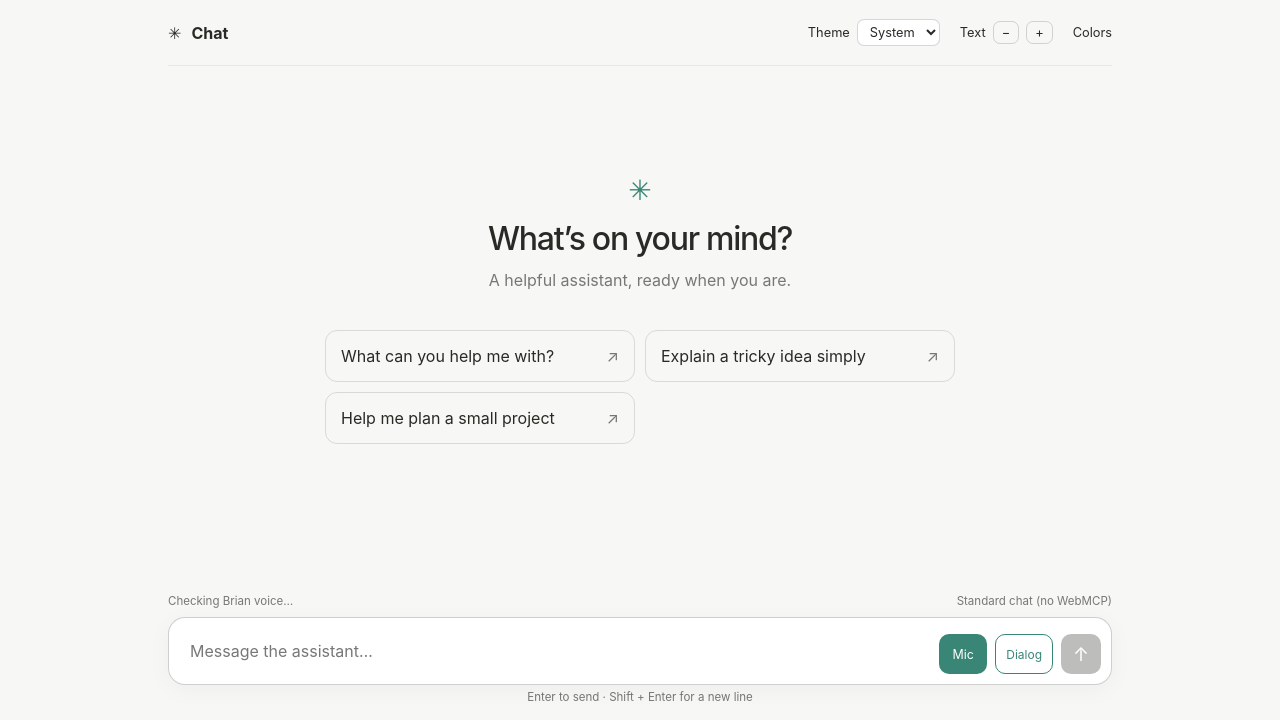
Test: Dialog integration › ends Dialog on keyboard submission and carries its visible partial answer into typed chat
In the text box labelled "Message": (559, 651) [179,628,939,674], type "Follow up"
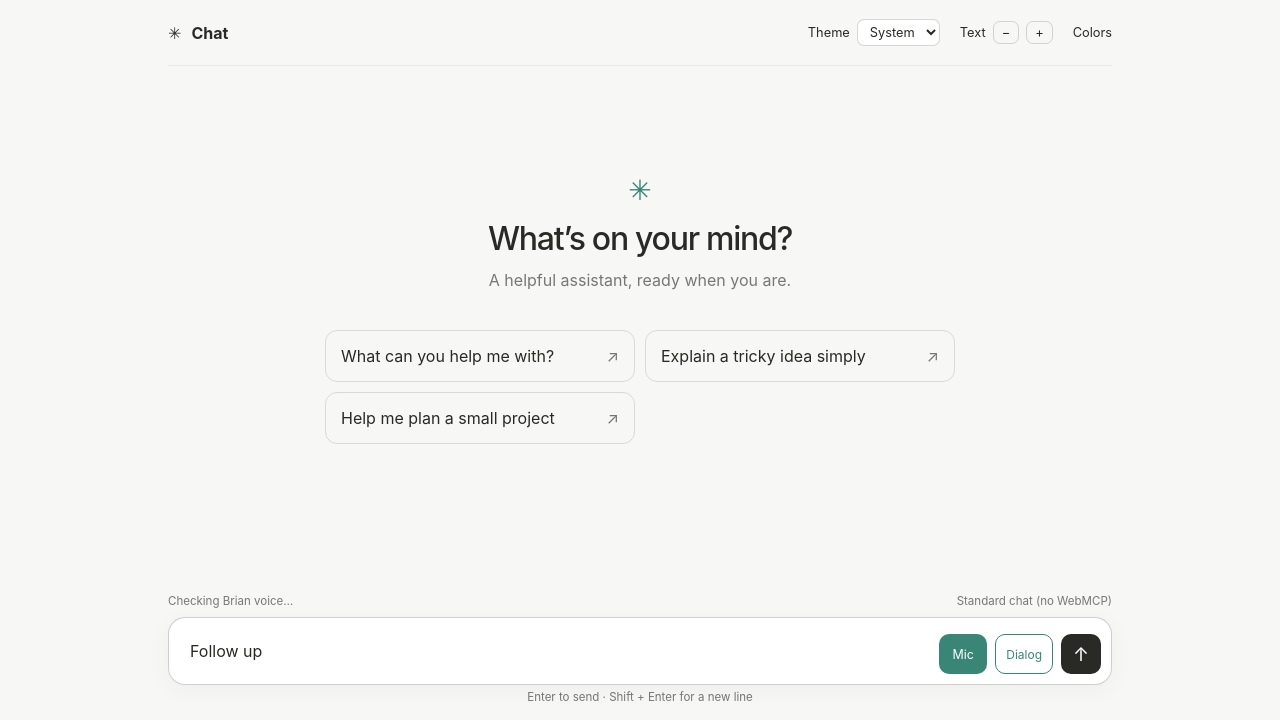
Click the button with aria-label "Start Dialog": (1024, 654) [995,634,1053,674]
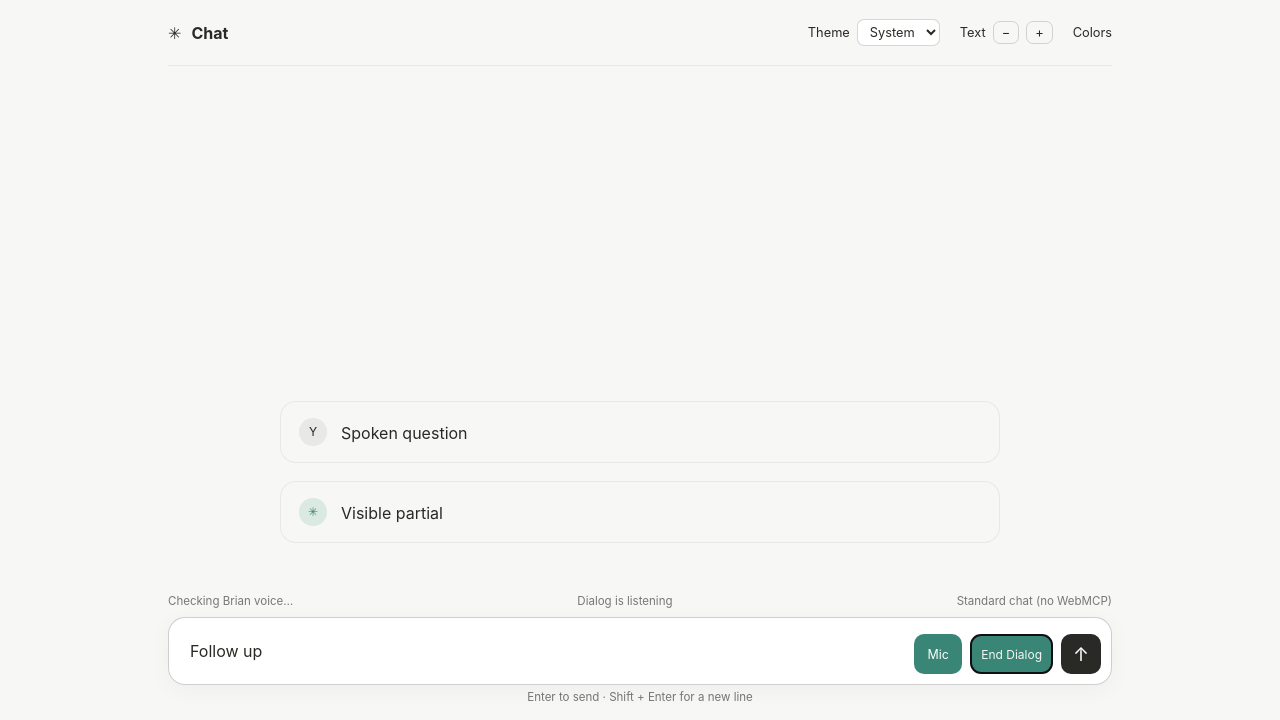
# Keyboard focus does not click the shell, so send itself must end Dialog.
Press Enter in the text box named "Message", box [179,628,914,674]
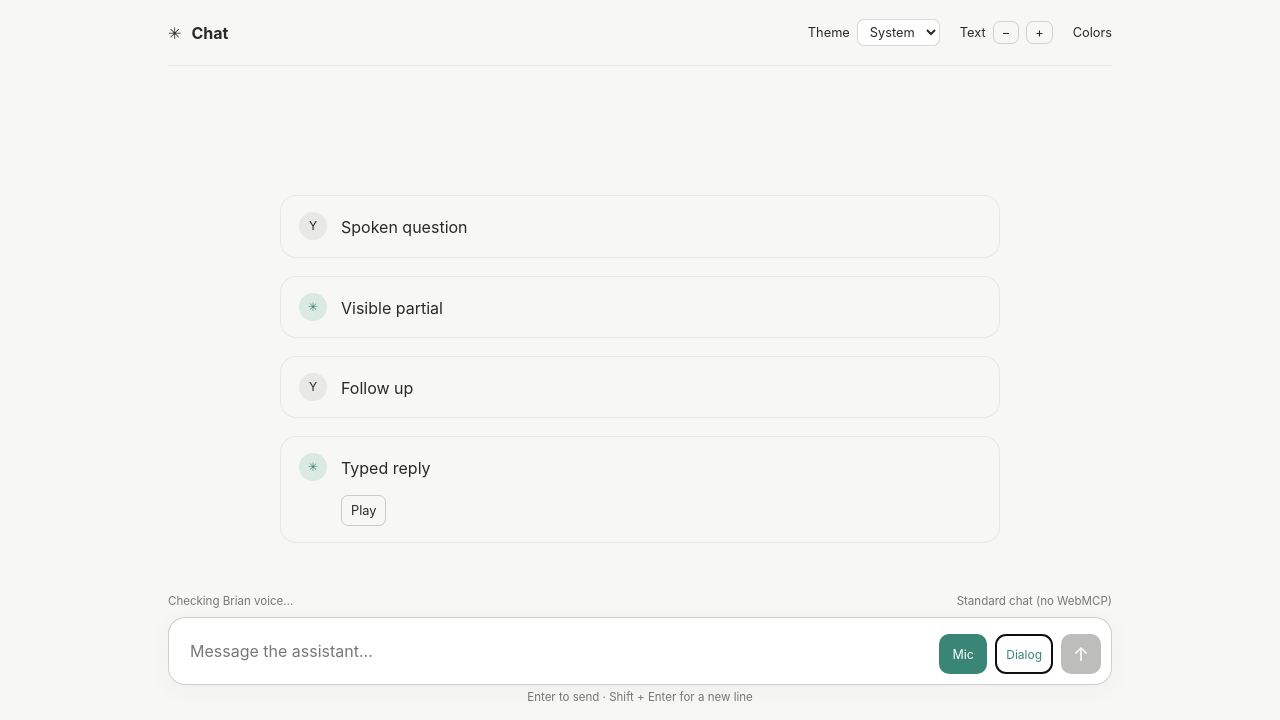
Expected: the text "Follow up" is shown, [341,378,413,398]
Expected: the text "Typed reply" is shown, [341,458,431,478]
